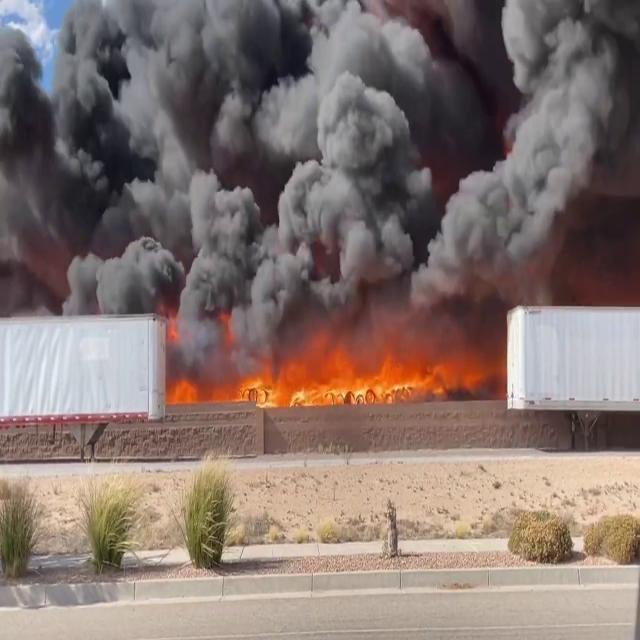Fire: (233, 330, 484, 408)
Smoke: (2, 1, 634, 332)
